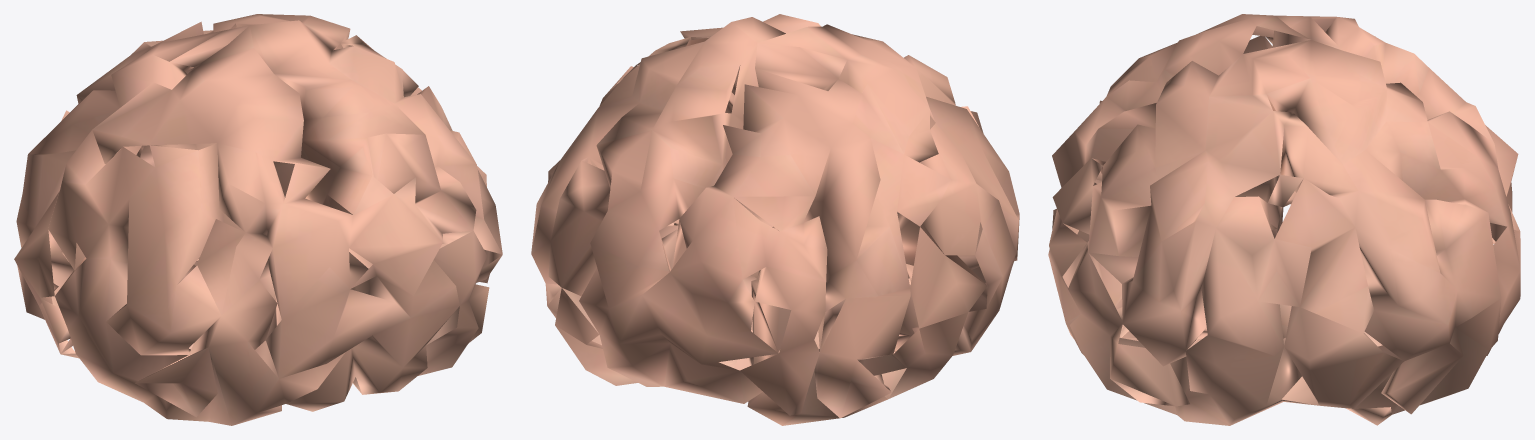
3 renders of one model, left to right at view 1: azimuth 30°, elevation 25°; view 2: azimuth 150°, elevation 25°; view 3: azimuth 270°, elevation 25°, orthographic. The views are drawn at different scales.
Bounding box in the file's own units: 1.88 × 1.42 × 1.83.
Materials: 1 (1 with a texture image).
